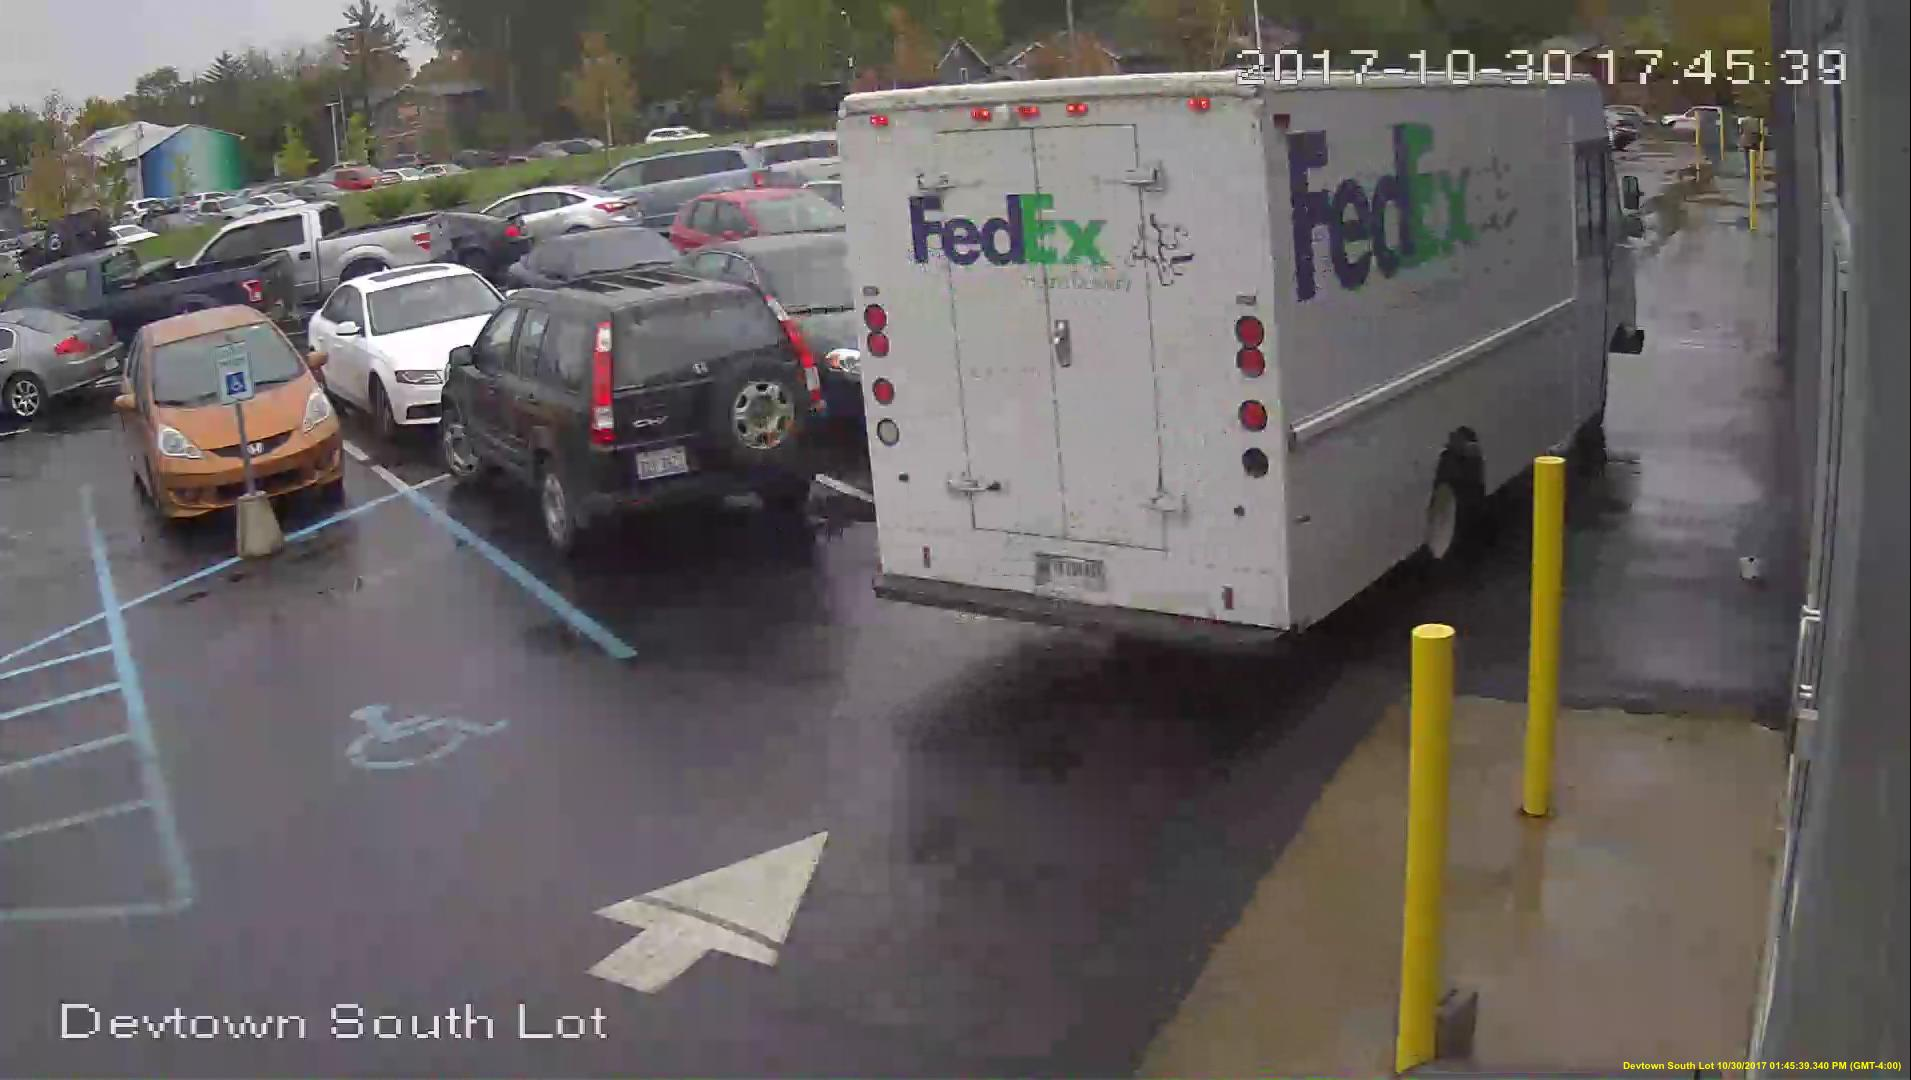fedex_truck: (864, 70, 1627, 657)
